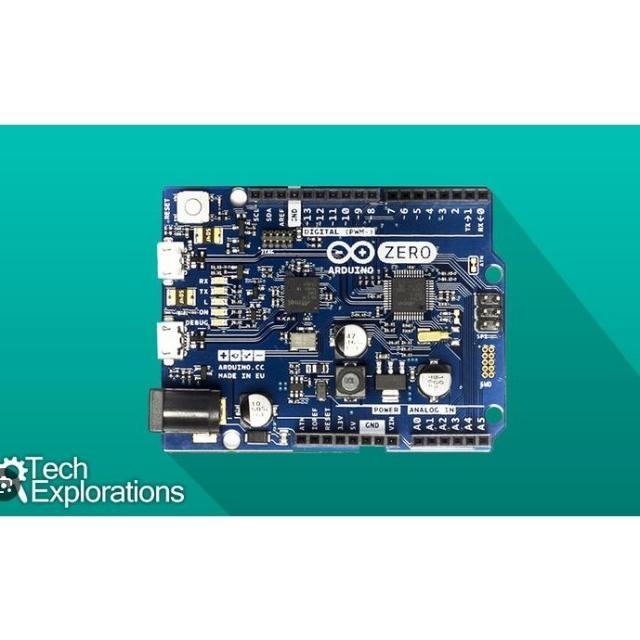Arduino-Zero: (150, 187, 506, 453)
